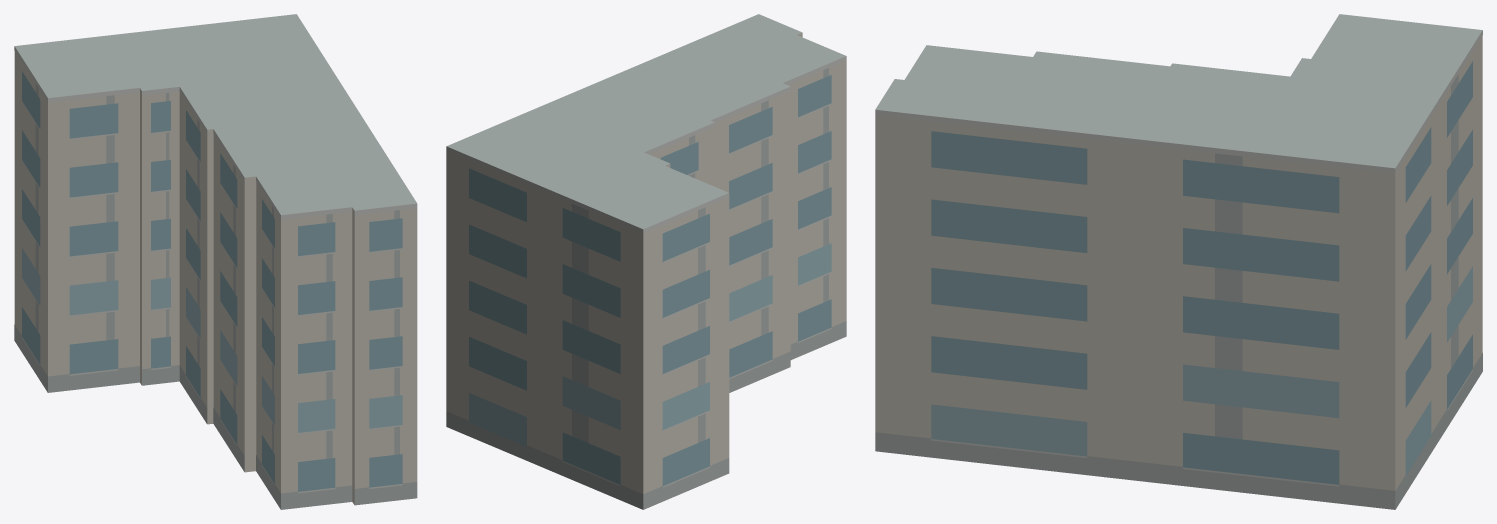
File: survey-upis-32870279.glb
3 renders of one model, left to right at view 1: azimuth 30°, elevation 25°; view 2: azimuth 150°, elevation 25°; view 3: azimuth 270°, elevation 25°, orthographic. The views are drawn at different scales.
Parts seen in each view (by area): view 1: survey-upis-32870279.tmp; view 2: survey-upis-32870279.tmp; view 3: survey-upis-32870279.tmp.
Part boxes in pixels (left/top/right/bottom): survey-upis-32870279.tmp: left=14, top=14, right=417, bottom=509; survey-upis-32870279.tmp: left=446, top=14, right=846, bottom=509; survey-upis-32870279.tmp: left=875, top=14, right=1482, bottom=509.
Size of the model in its own units: 15.22 by 15.7 by 25.32.
